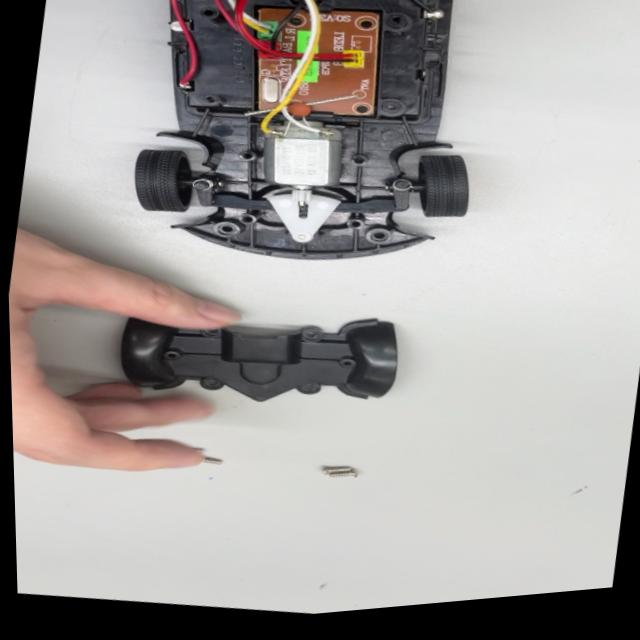Chassis: (111, 0, 528, 307)
motor: (246, 112, 364, 213)
motor_cover: (91, 280, 424, 442)
wheel: (120, 135, 213, 240), (401, 146, 483, 228)
